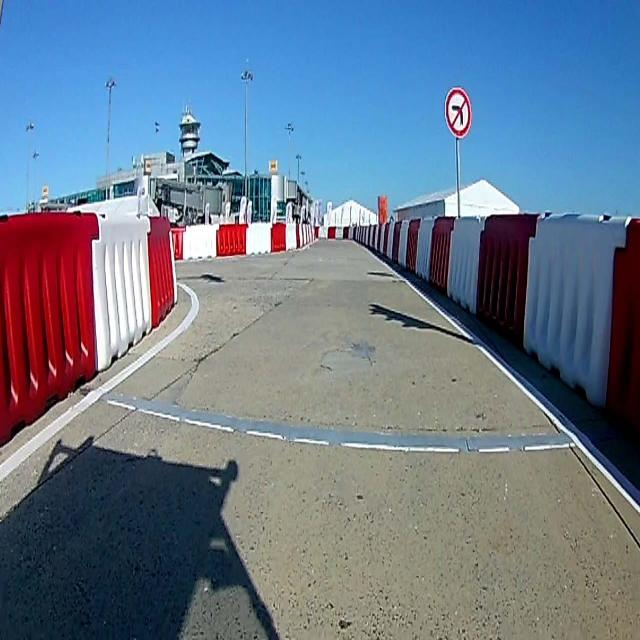soladonulmez: (444, 87, 472, 138)
